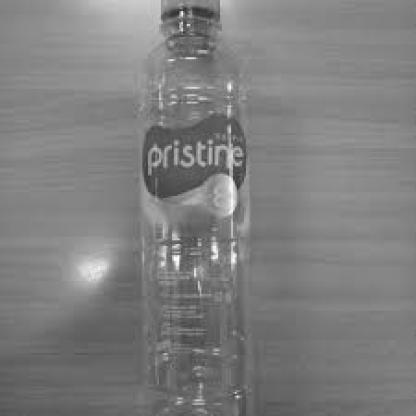plastic_bottles: (136, 1, 252, 416)
